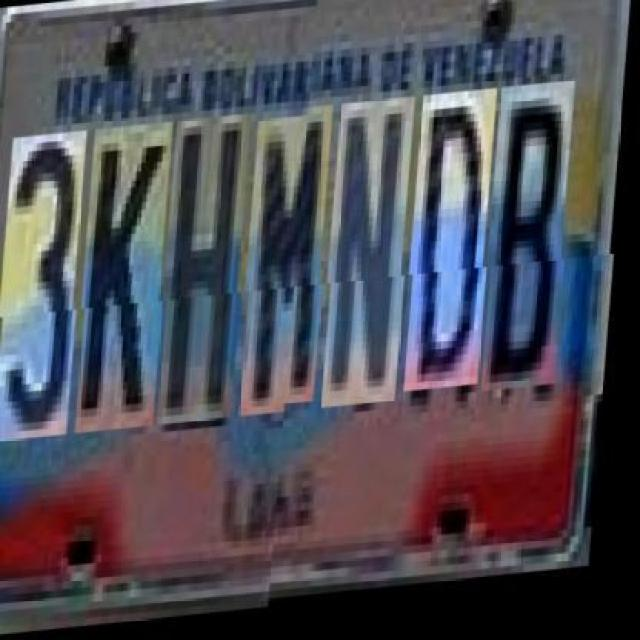3: (0, 132, 94, 442)
b: (488, 100, 582, 411)
d: (410, 106, 504, 409)
h: (164, 118, 258, 430)
k: (82, 126, 180, 437)
m: (246, 120, 340, 422)
n: (328, 113, 422, 424)
